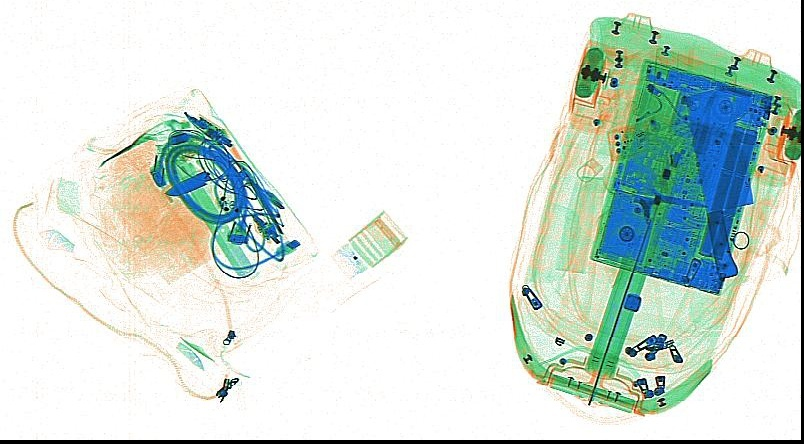knife: (684, 89, 753, 279), (229, 144, 283, 234), (161, 170, 211, 197)
scissors: (619, 173, 709, 209)
